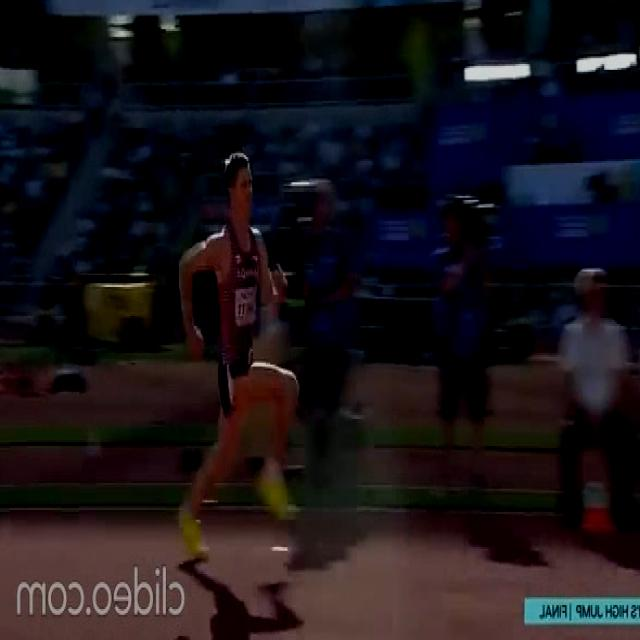run: (180, 146, 304, 560)
